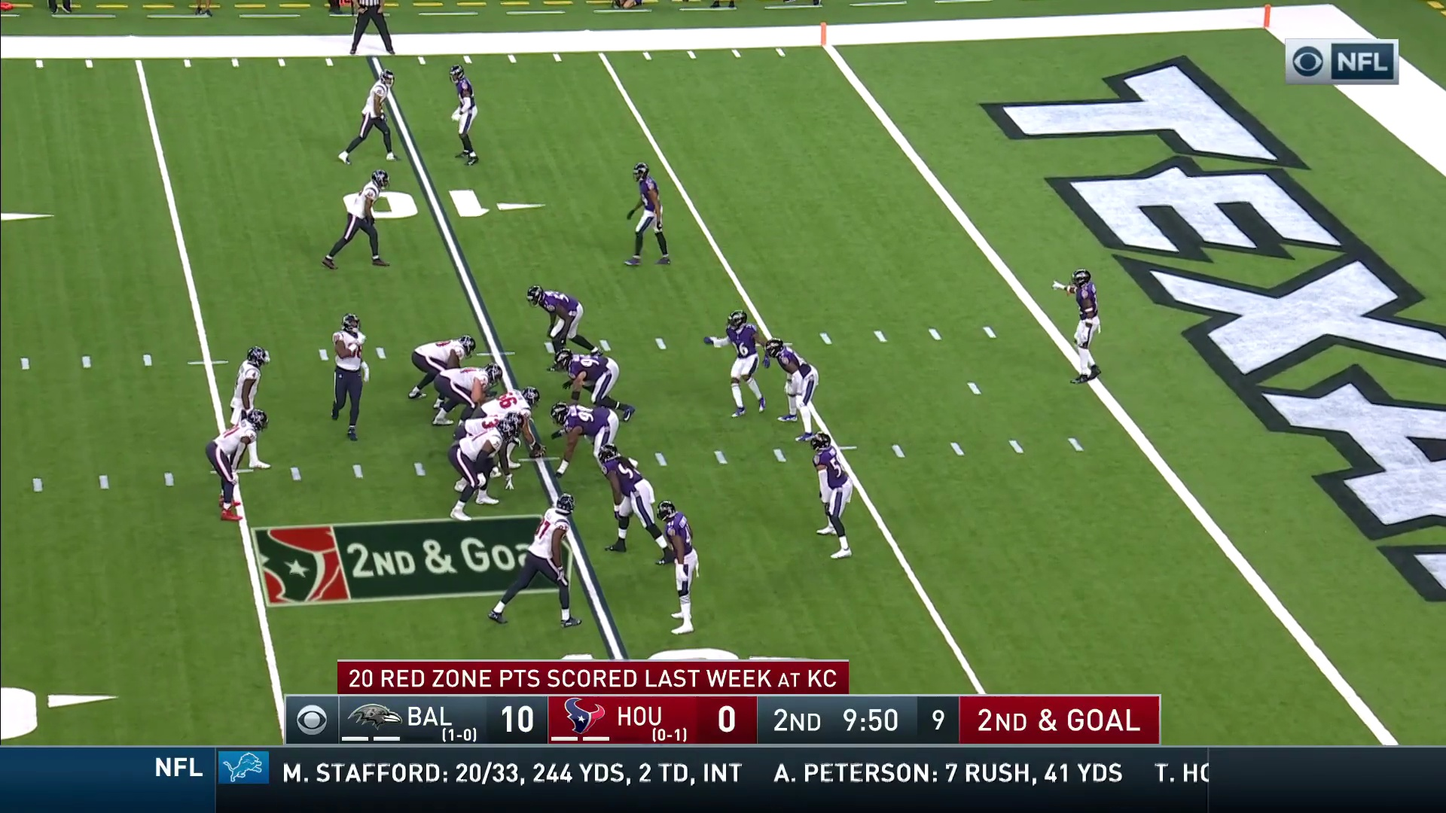Player: (457, 390, 533, 485), (206, 406, 265, 520), (449, 410, 509, 518), (812, 434, 853, 557), (228, 347, 269, 466), (332, 313, 367, 439), (722, 310, 764, 415), (552, 402, 619, 466), (557, 349, 619, 407), (1070, 268, 1100, 382), (434, 367, 495, 417)
